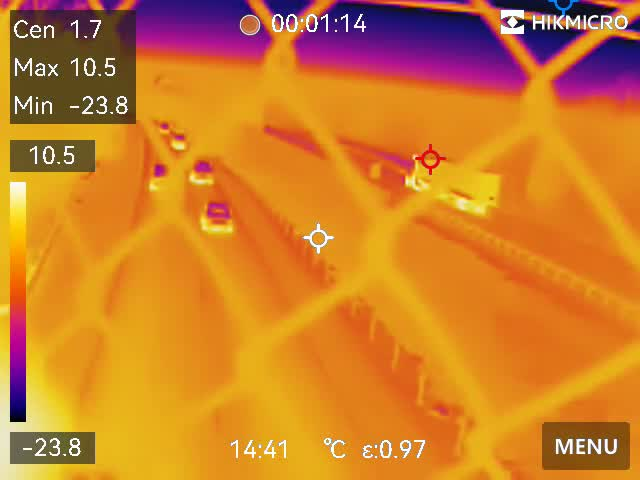heavyTruck: (402, 154, 502, 210)
vehicle: (196, 197, 233, 238), (186, 158, 217, 189), (149, 162, 171, 193), (165, 132, 190, 153), (154, 121, 176, 134)
